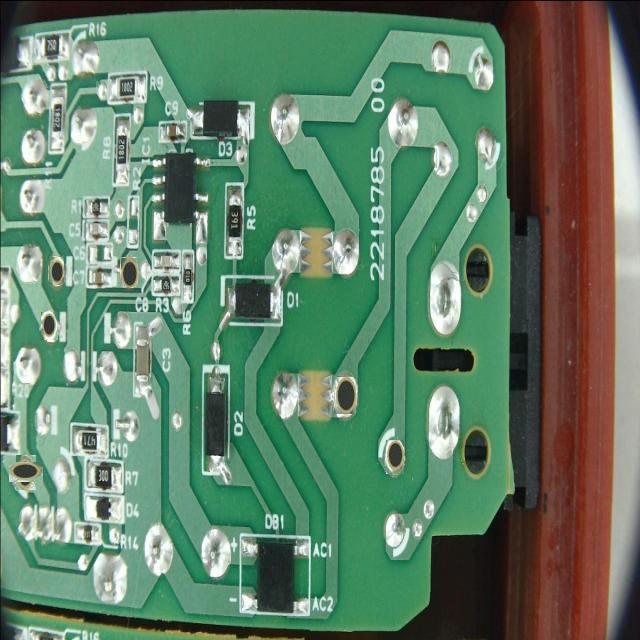damged: (334, 376, 356, 414), (12, 459, 40, 486), (386, 440, 404, 474), (120, 257, 138, 287), (48, 256, 64, 286), (41, 312, 58, 340)
